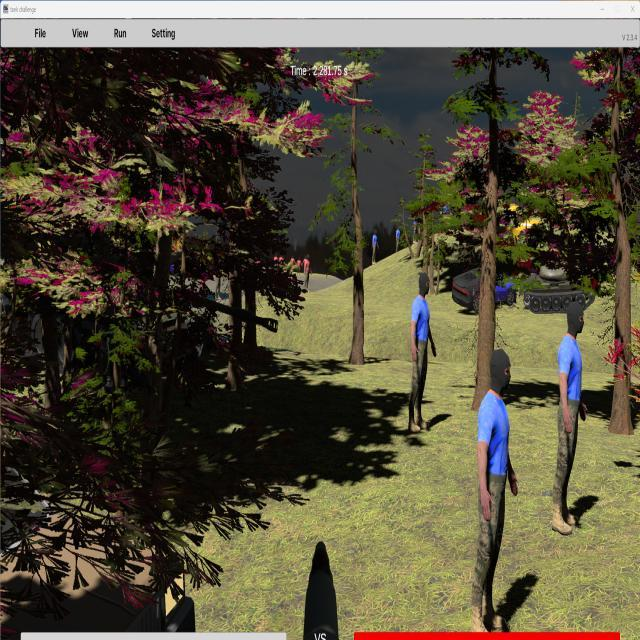Human: (473, 345, 519, 632), (552, 297, 588, 535), (408, 272, 437, 434)
Tank: (522, 262, 597, 315)
car: (451, 265, 517, 314)
